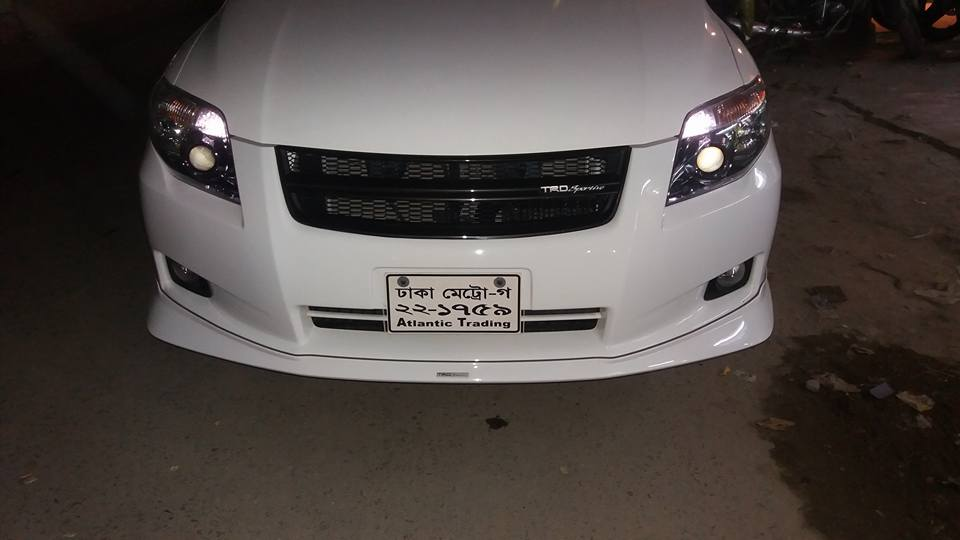registration_plate: (383, 269, 522, 334)
